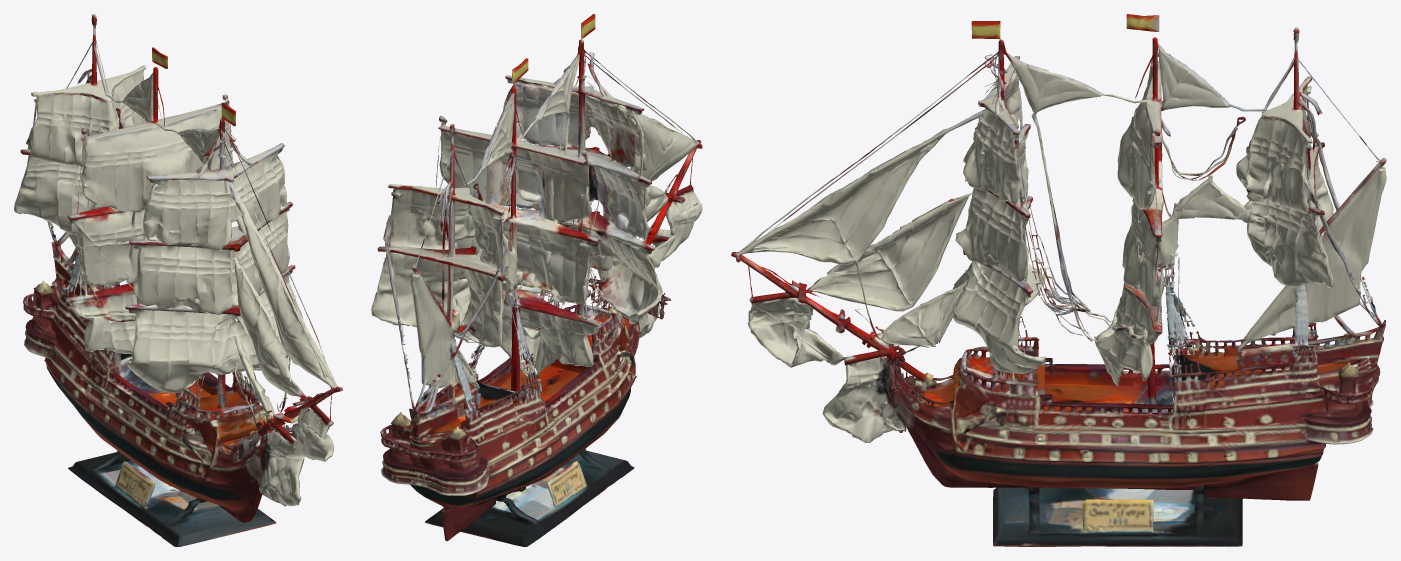
File: barco.fbx
3 renders of one model, left to right at view 1: azimuth 30°, elevation 25°; view 2: azimuth 150°, elevation 25°; view 3: azimuth 270°, elevation 25°, orthographic. The views are drawn at different scales.
Visible parts, largest first — view 1: tripo_node_f0ec5c4d; view 2: tripo_node_f0ec5c4d; view 3: tripo_node_f0ec5c4d.
Part boxes in pixels (x1,y1,x2,y2): tripo_node_f0ec5c4d: (14,14,342,546); tripo_node_f0ec5c4d: (371,14,702,546); tripo_node_f0ec5c4d: (731,14,1386,546).
Bounding box in the file's own units: 0.3552 × 0.8472 × 0.9998.
1 material, 1 textured.
